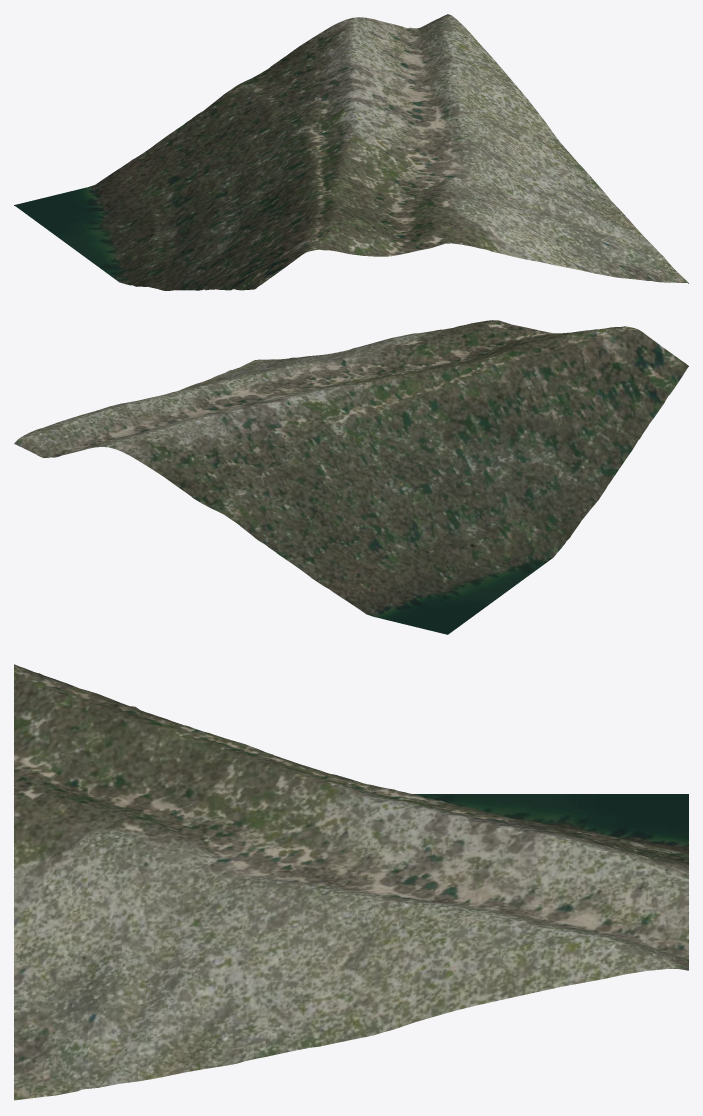
3 renders of one model, top to bottom at view 1: azimuth 30°, elevation 25°; view 2: azimuth 150°, elevation 25°; view 3: azimuth 270°, elevation 25°, orthographic. The views are drawn at different scales.
Bounding box in the file's own units: 500 × 138 × 481.
1 material, 1 textured.
